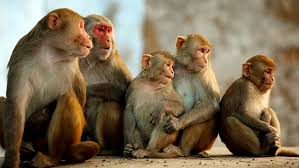monkey: (139, 33, 283, 154), (26, 7, 121, 168)
